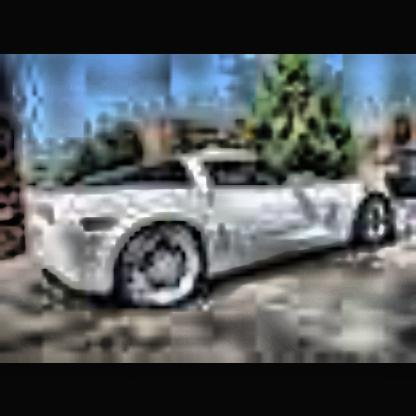Chevrolet Corvette Ron Fellows Edition Z06 2007: (17, 123, 406, 331)
